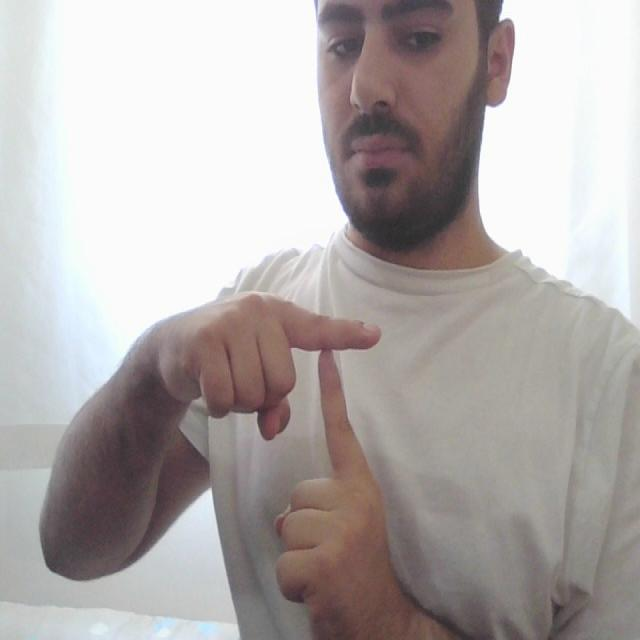Tesekkurler: (264, 279, 394, 504)
